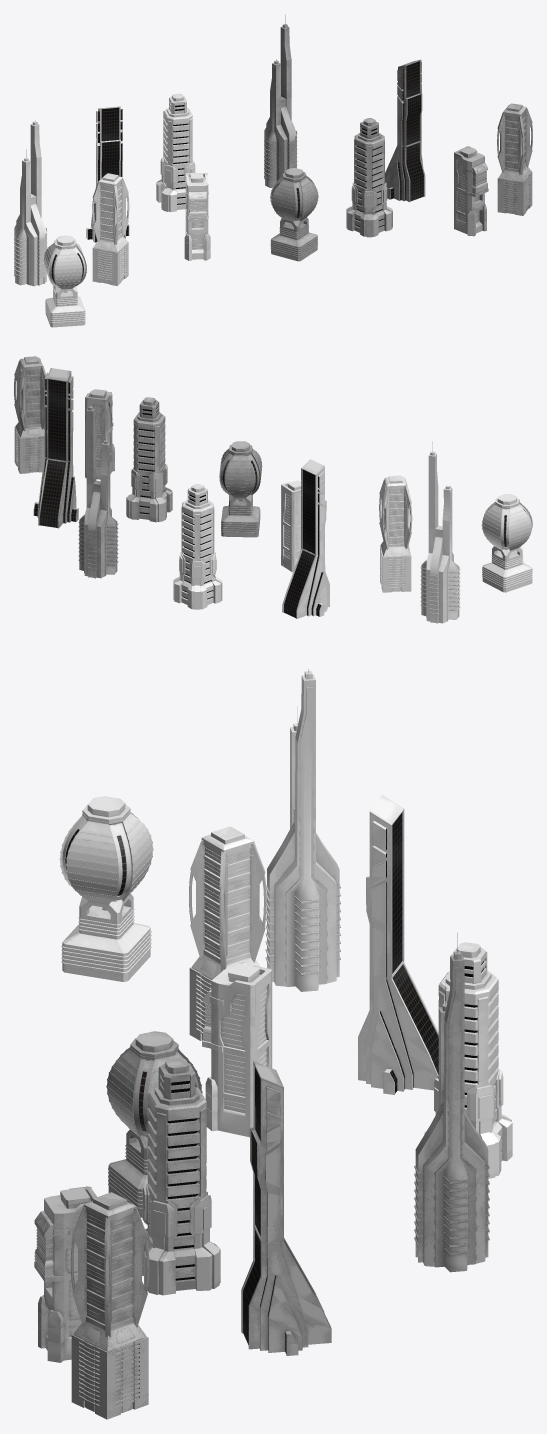
3 views of the same model, one above another, from view 1: azimuth 30°, elevation 25°; view 2: azimuth 150°, elevation 25°; view 3: azimuth 270°, elevation 25° (orthographic). The views are drawn at different scales.
Parts seen in each view (by area): view 1: Building6b, Building2b, Building3, Building4, Building4b, Building3b, Building1b, Building2, Building1, Building5b, Building5, Building6; view 2: Building6b, Building6, Building2, Building3b, Building3, Building2b, Building1, Building4, Building4b, Building1b, Building5, Building5b; view 3: Building4b, Building3b, Building2b, Building6, Building3, Building1, Building6b, Building4, Building5, Building2, Building1b, Building5b.
Part boxes in pixels (x1=…): Building6b: x1=385, y1=59, x2=425, y2=202; Building2b: x1=346, y1=118, x2=392, y2=237; Building3: x1=14, y1=120, x2=47, y2=286; Building4: x1=92, y1=173, x2=129, y2=285; Building4b: x1=497, y1=103, x2=532, y2=215; Building3b: x1=264, y1=14, x2=297, y2=187; Building1b: x1=270, y1=168, x2=318, y2=261; Building2: x1=156, y1=93, x2=195, y2=211; Building1: x1=43, y1=235, x2=86, y2=327; Building5b: x1=454, y1=146, x2=488, y2=236; Building5: x1=184, y1=172, x2=210, y2=260; Building6: x1=86, y1=106, x2=129, y2=242; Building6b: x1=33, y1=368, x2=78, y2=528; Building6: x1=282, y1=459, x2=329, y2=618; Building2: x1=173, y1=484, x2=222, y2=609; Building3b: x1=78, y1=396, x2=118, y2=578; Building3: x1=420, y1=441, x2=460, y2=623; Building2b: x1=126, y1=397, x2=172, y2=522; Building1: x1=481, y1=494, x2=532, y2=592; Building4: x1=379, y1=475, x2=412, y2=592; Building4b: x1=14, y1=356, x2=46, y2=473; Building1b: x1=219, y1=441, x2=262, y2=537; Building5: x1=281, y1=480, x2=301, y2=572; Building5b: x1=85, y1=389, x2=114, y2=479; Building4b: x1=70, y1=1192, x2=149, y2=1419; Building3b: x1=414, y1=933, x2=489, y2=1272; Building2b: x1=142, y1=1058, x2=220, y2=1295; Building6: x1=358, y1=795, x2=438, y2=1094; Building3: x1=265, y1=669, x2=340, y2=991; Building1: x1=59, y1=796, x2=153, y2=981; Building6b: x1=241, y1=1061, x2=331, y2=1355; Building4: x1=189, y1=826, x2=266, y2=1040; Building5: x1=202, y1=963, x2=272, y2=1137; Building2: x1=424, y1=942, x2=512, y2=1178; Building1b: x1=106, y1=1031, x2=202, y2=1217; Building5b: x1=34, y1=1186, x2=97, y2=1362.
Size of the model in its own units: 38.35 by 12.44 by 16.28.
14 materials, 14 textured.
